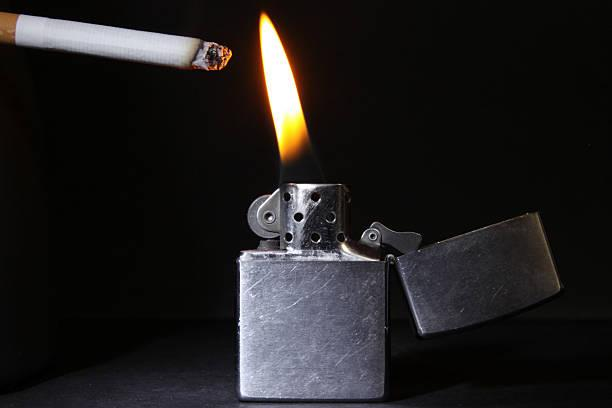Fire: (255, 9, 321, 182)
